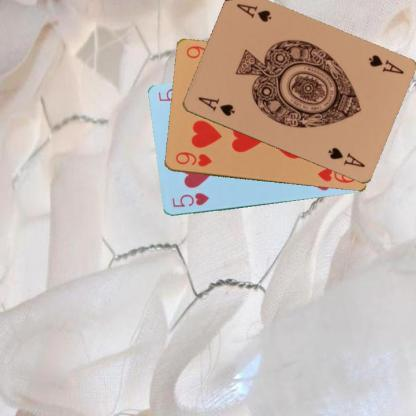5h: (169, 190, 210, 209)
9h: (172, 150, 212, 168)
As: (195, 94, 236, 118), (365, 52, 405, 76)
